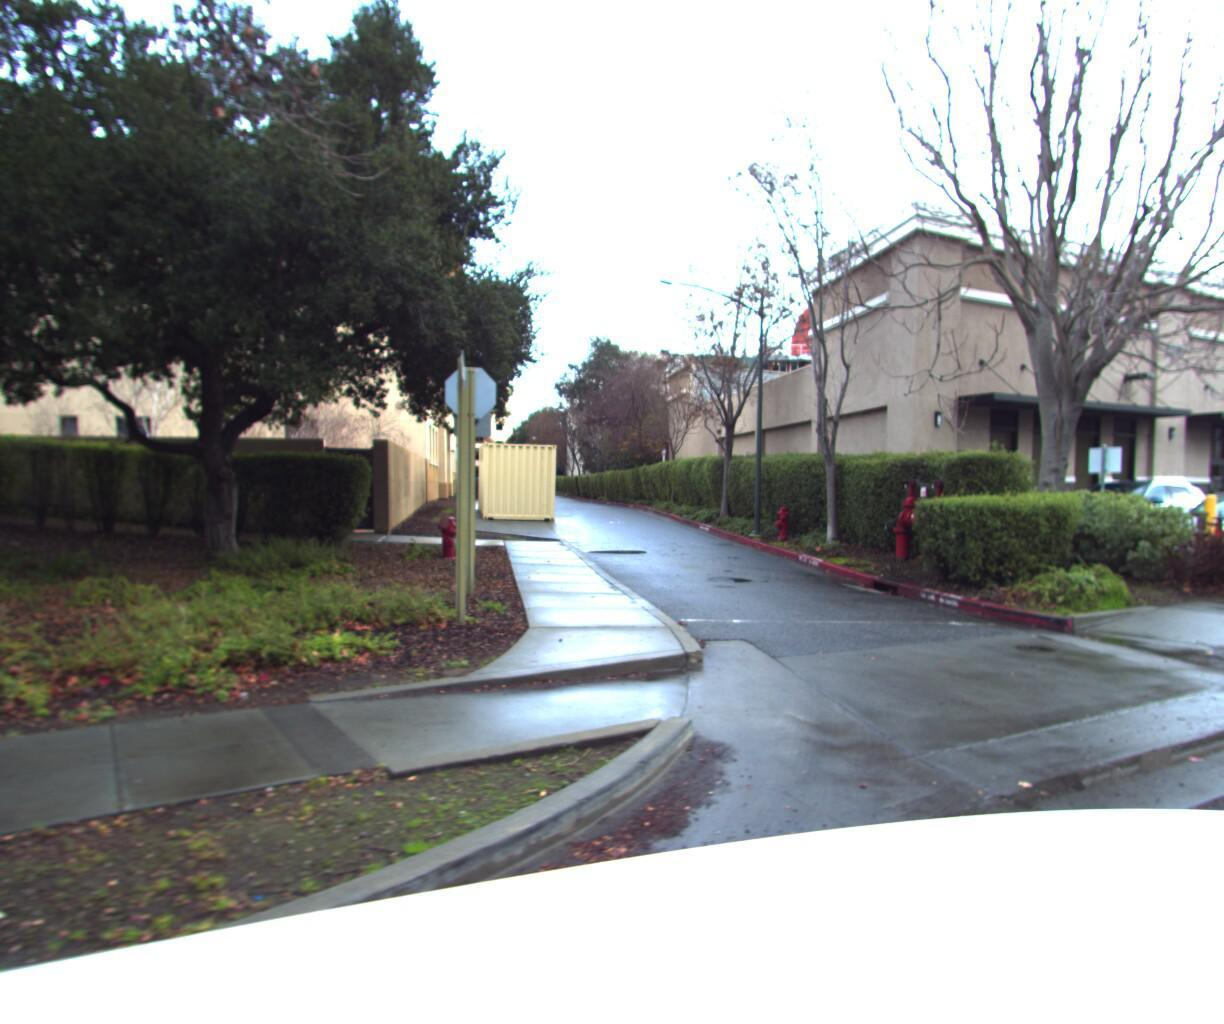car: (1019, 479, 1224, 565), (1129, 487, 1224, 577)
